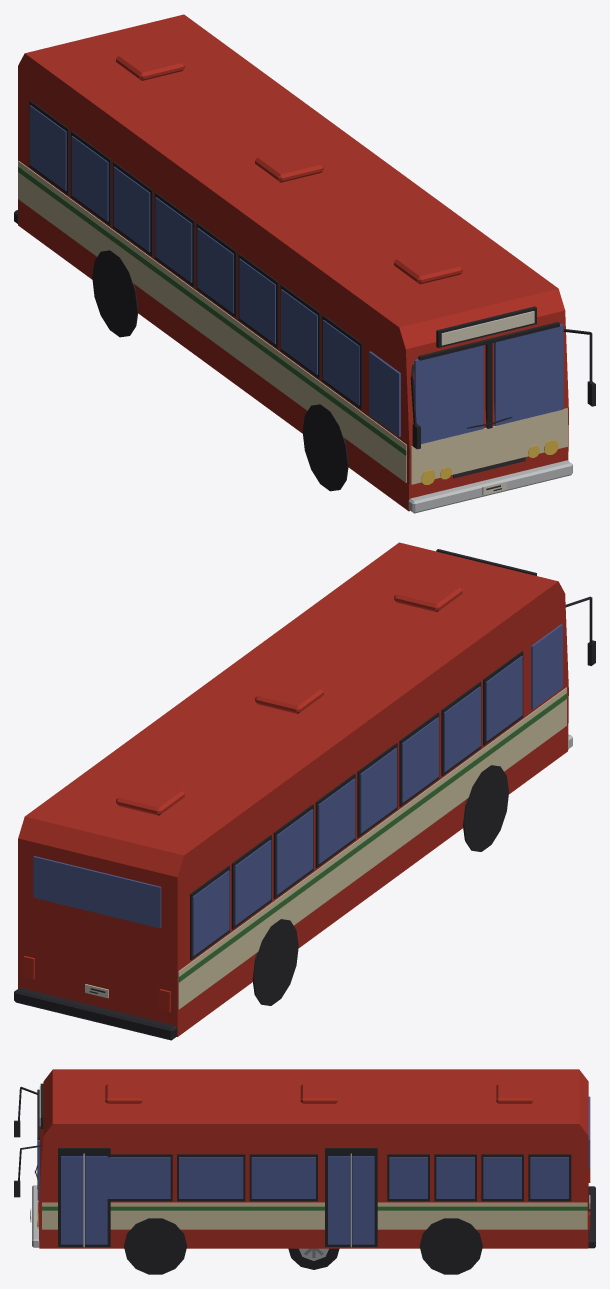
Rendered from bus.glb.
The picture shows the model from 3 angles, top to bottom: view 1: azimuth 30°, elevation 25°; view 2: azimuth 150°, elevation 25°; view 3: azimuth 270°, elevation 25°; orthographic projection. The views are drawn at different scales.
Visible parts, largest first — view 1: body; view 2: body; view 3: body, wheel0.
Part boxes in pixels (<box>): body: <box>14,14,595,513</box>; body: <box>14,542,595,1040</box>; body: <box>14,1069,595,1274</box>; wheel0: <box>288,1248,339,1269</box>.
Size of the model in its own units: 2.78 by 3.67 by 11.02.
